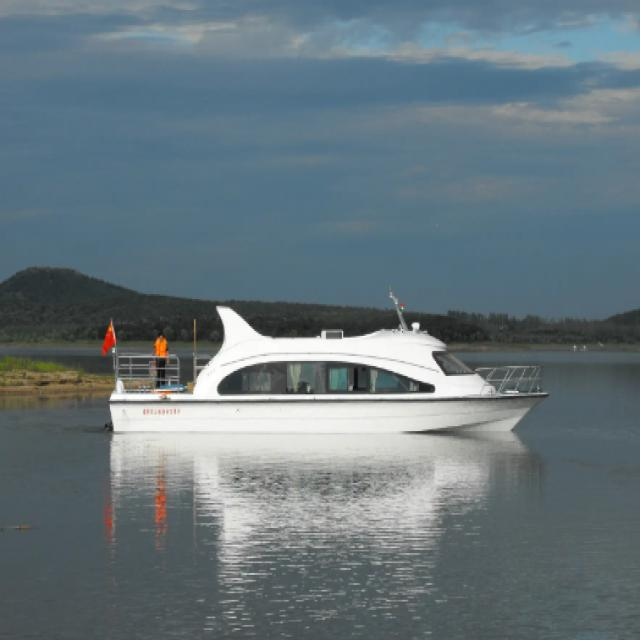houseboat: (99, 294, 550, 440)
